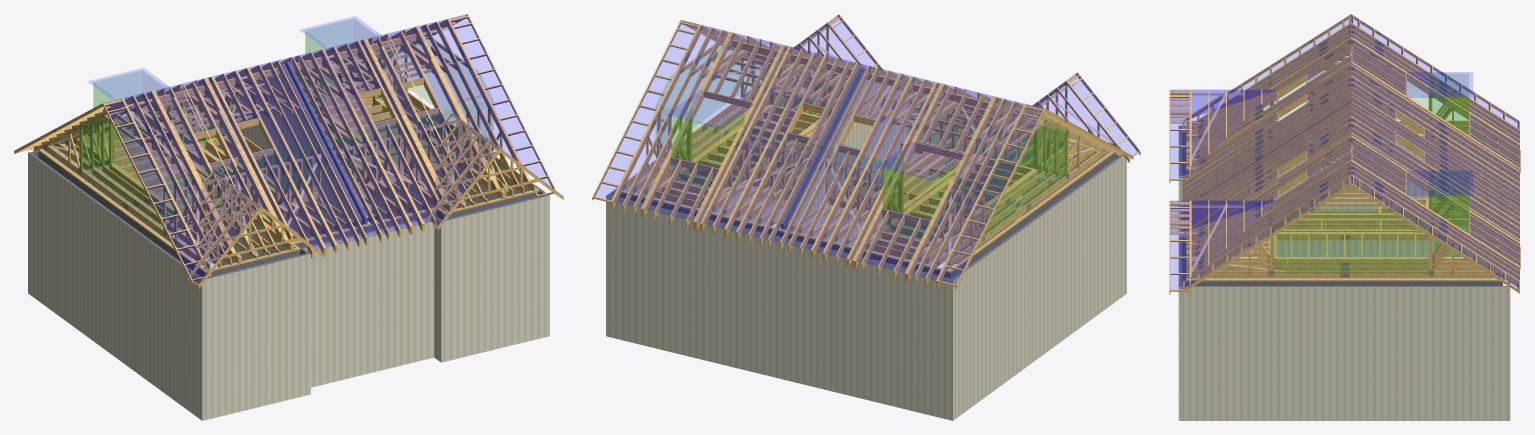
The picture shows the model from 3 angles, left to right: view 1: azimuth 30°, elevation 25°; view 2: azimuth 150°, elevation 25°; view 3: azimuth 270°, elevation 25°; orthographic projection. The views are drawn at different scales.
Parts seen in each view (by area): view 1: skfb_offset; view 2: skfb_offset; view 3: skfb_offset.
Part boxes in pixels (bbox=[...]): skfb_offset: bbox=[14, 14, 563, 420]; skfb_offset: bbox=[592, 14, 1140, 420]; skfb_offset: bbox=[1169, 14, 1520, 420].
Bounding box in the file's own units: 13582 × 9018 × 11900.
Materials: 9 (6 with a texture image).
